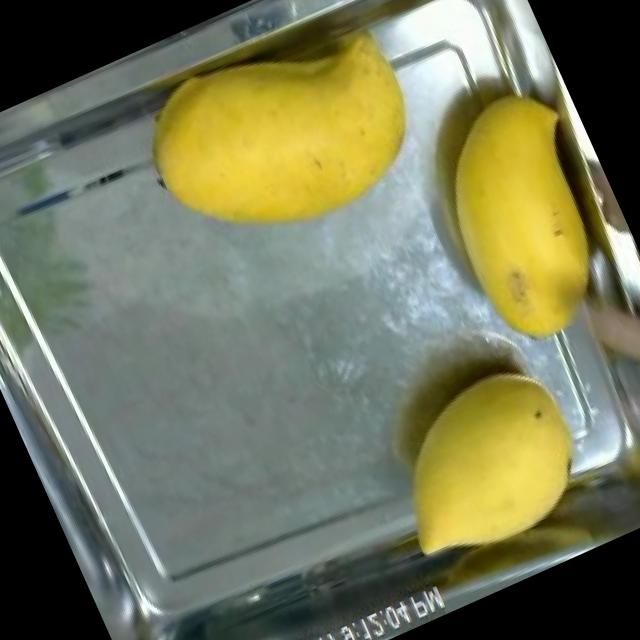fruit: (111, 0, 459, 289), (388, 57, 640, 374), (352, 329, 626, 596)
